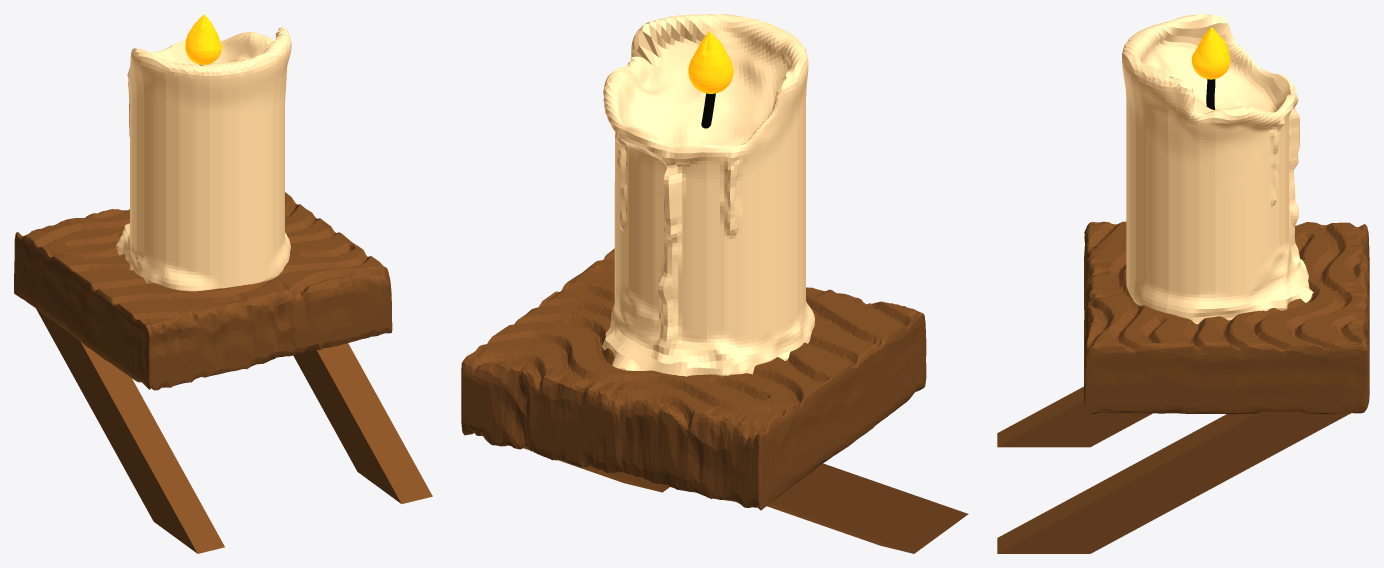
The model's file is WallCandle2.glb.
3 views of the same model, side by side, from view 1: azimuth 30°, elevation 25°; view 2: azimuth 150°, elevation 25°; view 3: azimuth 270°, elevation 25° (orthographic). The views are drawn at different scales.
Parts seen in each view (by area): view 1: Plane.002, Circle, Plane.003, Plane.001, Sphere; view 2: Circle, Plane.002, Plane.003, Sphere, Plane.001; view 3: Circle, Plane.002, Plane.001, Plane.003, Sphere.
Boxes of the visible parts, x1,y1,x2,y2 form: Plane.002: (14,192,392,390); Circle: (116,27,291,291); Plane.003: (36,308,224,553); Plane.001: (293,343,432,503); Sphere: (185,14,221,65); Circle: (602,14,814,376); Plane.002: (461,248,926,510); Plane.003: (767,463,968,553); Sphere: (688,31,733,93); Plane.001: (523,447,669,492); Circle: (1122,14,1313,324); Plane.002: (1084,221,1369,414); Plane.001: (997,411,1351,553); Plane.003: (997,386,1152,447); Sphere: (1191,27,1230,79).
Bounding box in the file's own units: 0.3603 × 0.6201 × 0.4526.
